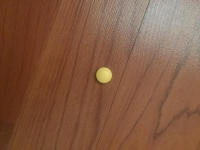Nurofen: (94, 66, 113, 84)
